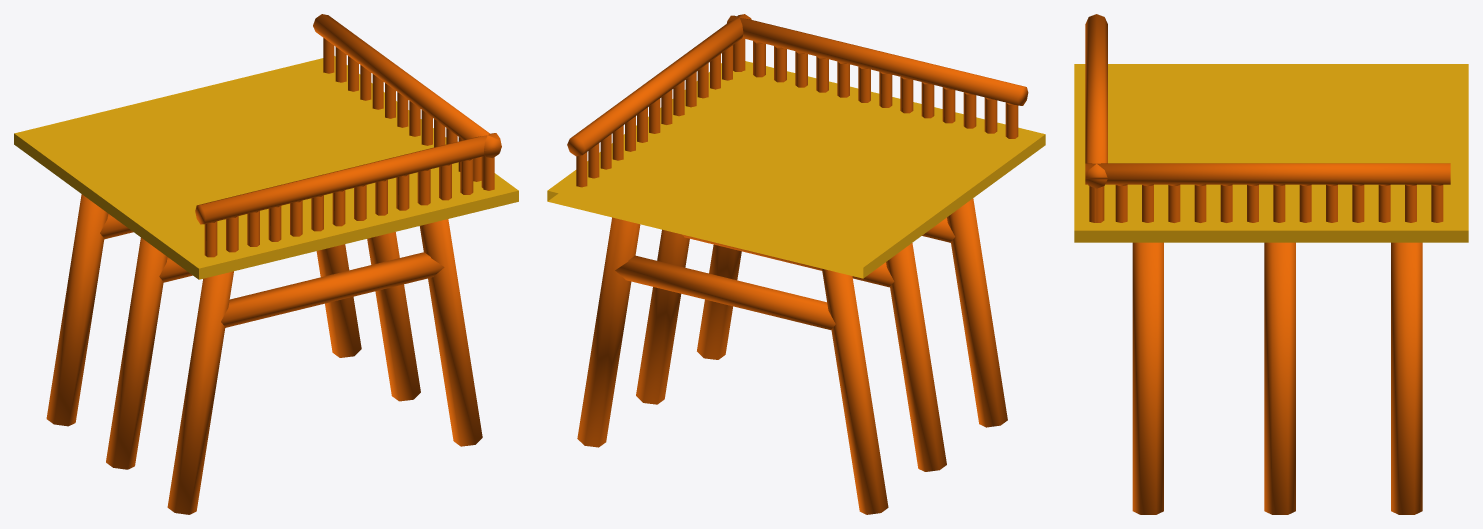
Rendered from bridge_3.fbx.
The picture shows the model from 3 angles, left to right: view 1: azimuth 30°, elevation 25°; view 2: azimuth 150°, elevation 25°; view 3: azimuth 270°, elevation 25°; orthographic projection. The views are drawn at different scales.
Visible parts, largest first — view 1: bridge_3; view 2: bridge_3; view 3: bridge_3.
Part boxes in pixels (box(x1,y1,x2,y2)): bridge_3: box(14, 14, 518, 514); bridge_3: box(547, 14, 1045, 514); bridge_3: box(1074, 14, 1468, 514).
Size of the model in its own units: 1500 by 1457 by 1500.
